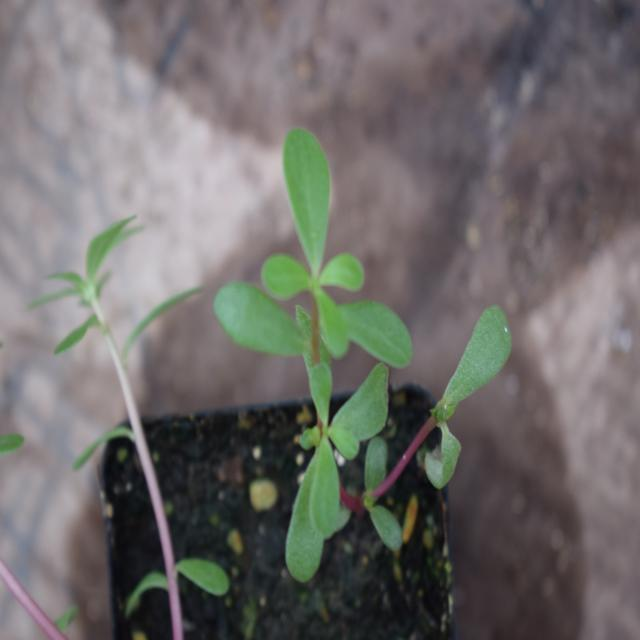purslane: (212, 111, 506, 576)
